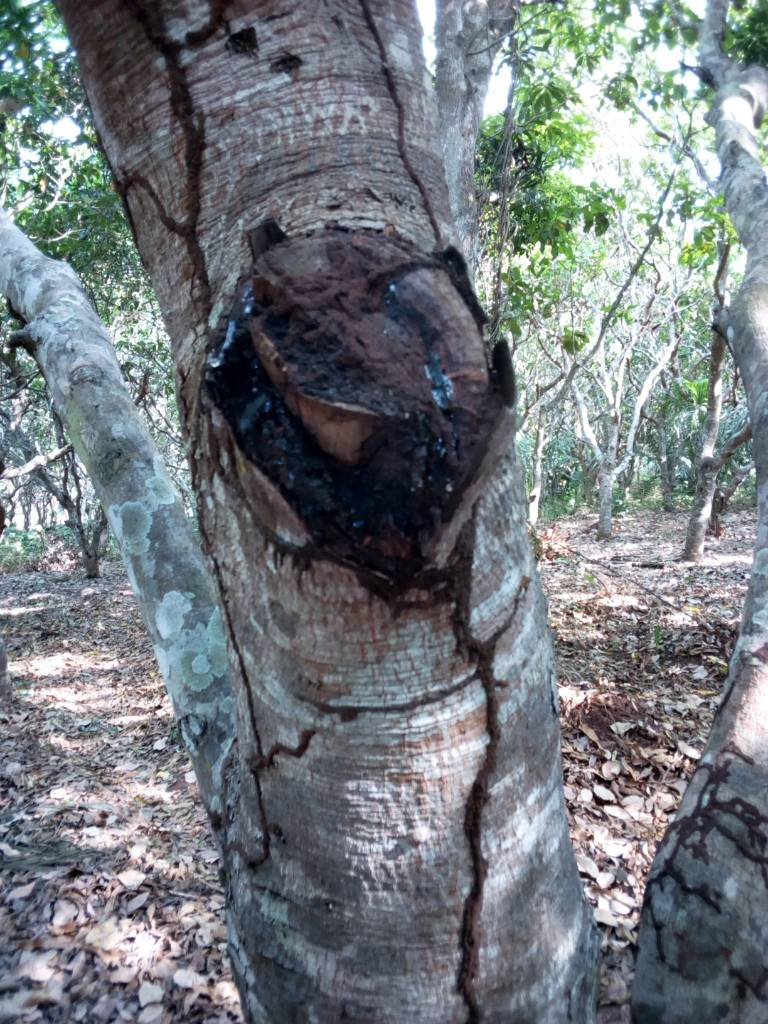Termites: (277, 242, 454, 405), (457, 641, 504, 1024), (163, 39, 221, 313), (244, 721, 324, 783)
